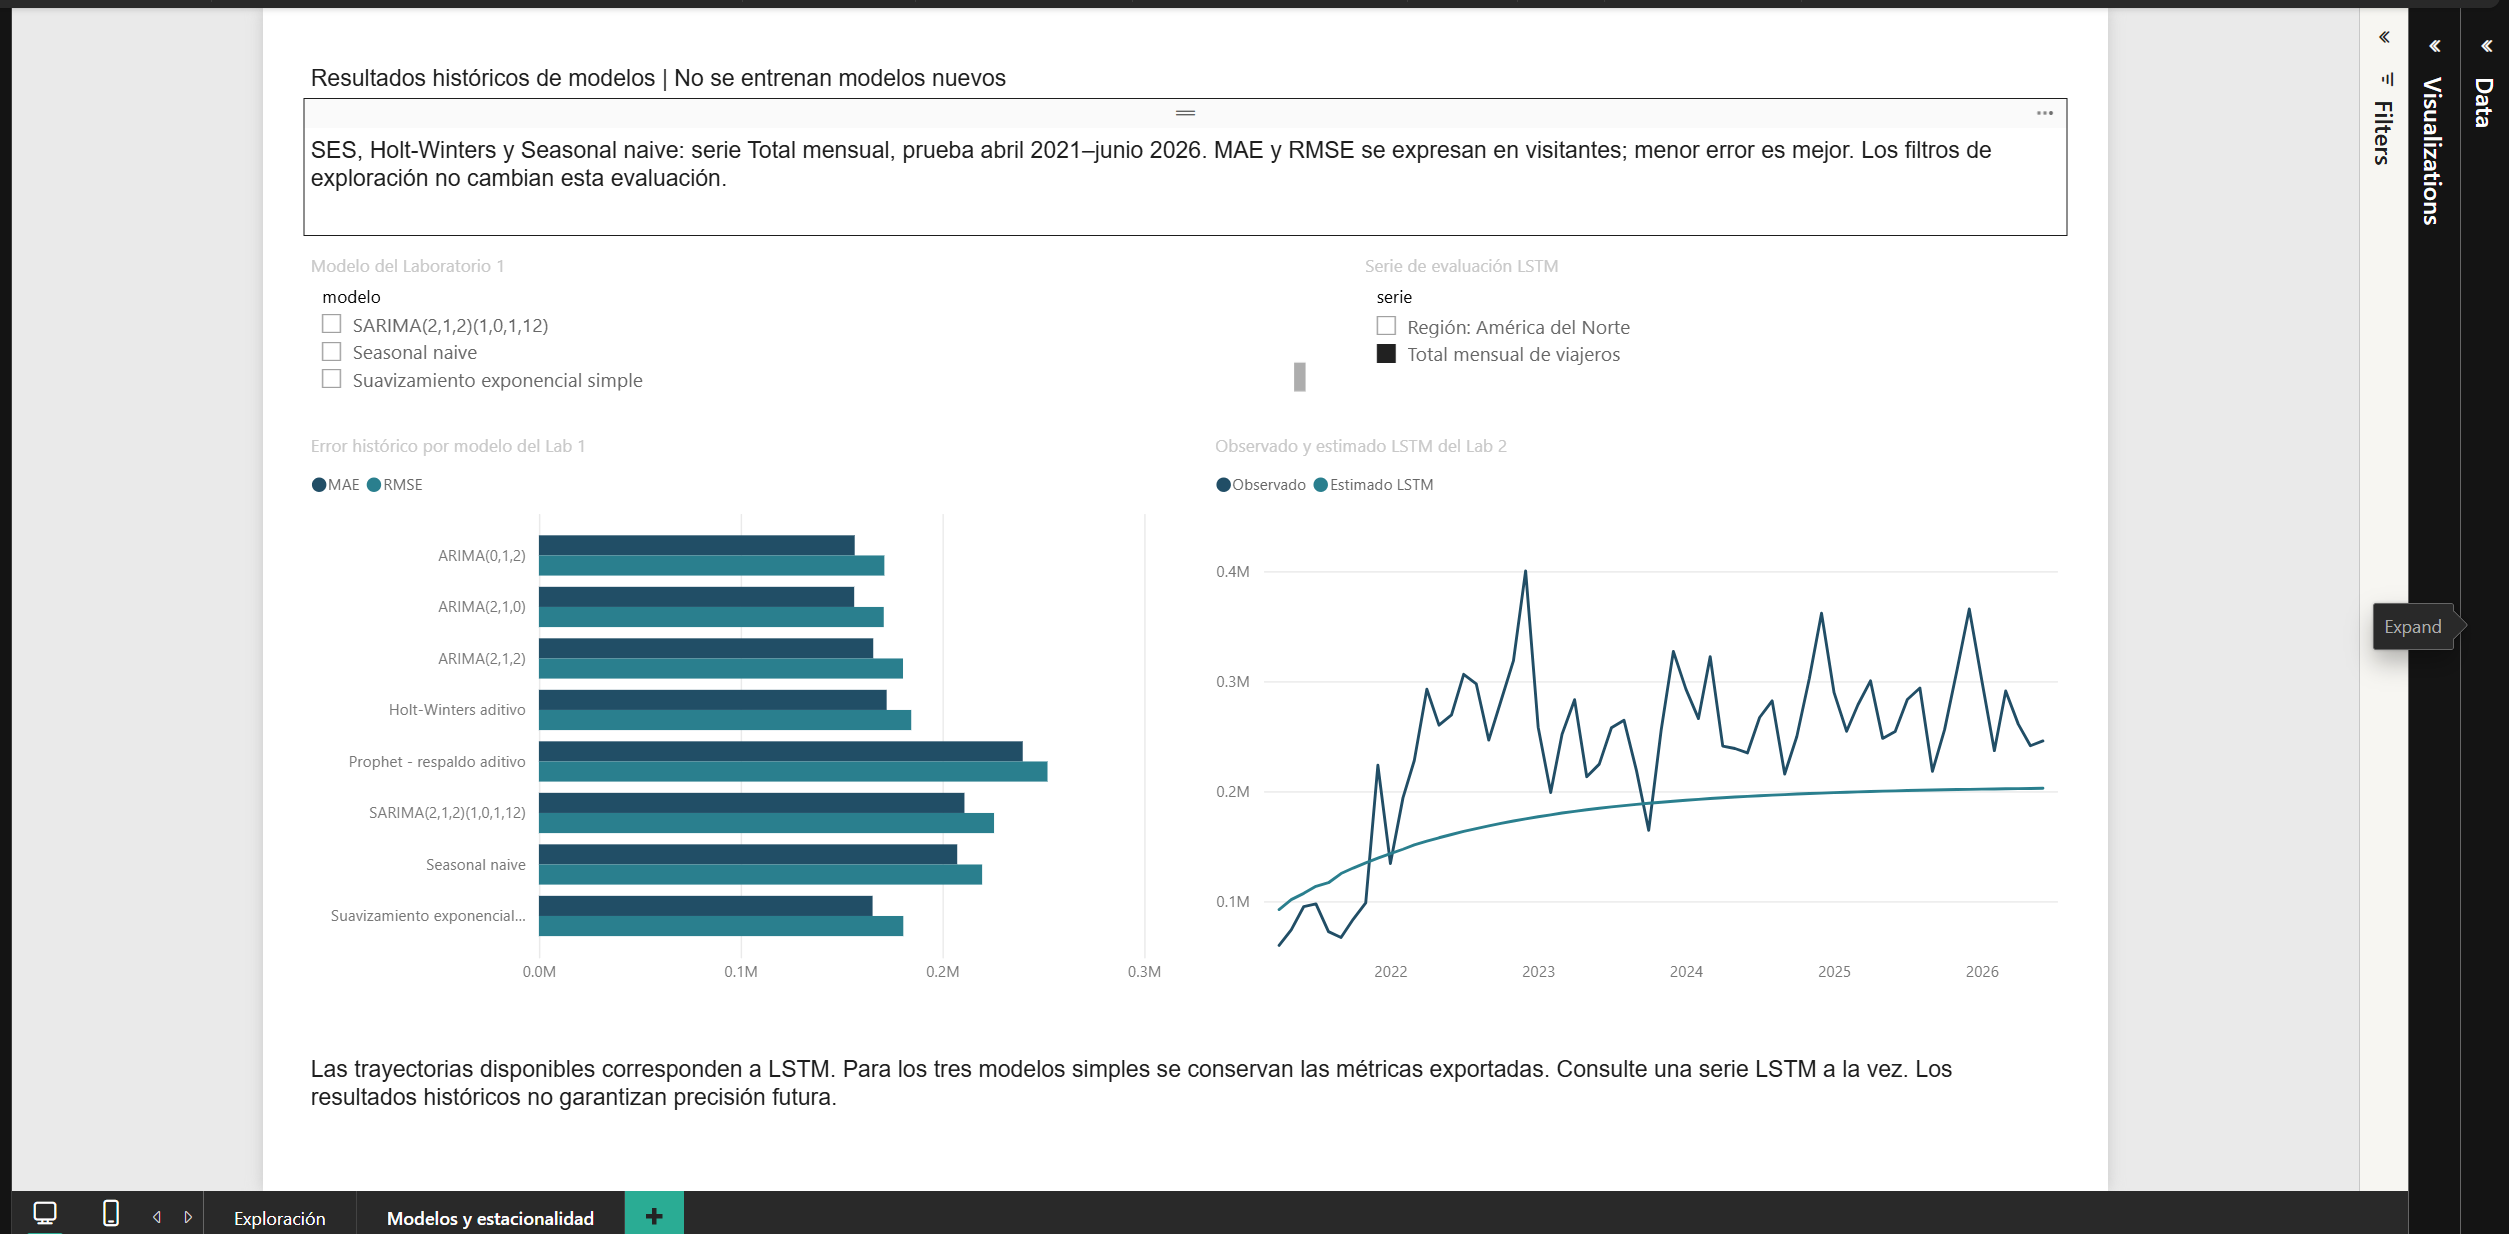

This screenshot's page, from the dashboard's own definition file:
{"tool":"powerbi","page":{"name":"Modelos y estacionalidad","canvas":[1280,800],"ordinal":1},"visuals":[{"type":"textbox","box":[28,12,1224,45],"z":0},{"type":"textbox","box":[28,62,1224,75],"z":0},{"type":"slicer","title":"Modelo del Laboratorio 1","fields":{"Values":["Metricas.modelo"]},"box":[28,150,700,100],"z":0},{"type":"slicer","title":"Serie de evaluación LSTM","fields":{"Values":["Predicciones.serie"]},"box":[760,150,492,100],"z":0},{"type":"clusteredBarChart","title":"Error histórico por modelo del Lab 1","fields":{"Category":["Metricas.modelo"],"Y":["Metricas.MAE","Metricas.RMSE"]},"box":[28,275,600,390],"z":0},{"type":"lineChart","title":"Observado y estimado LSTM del Lab 2","fields":{"Category":["Predicciones.fecha"],"Y":["Predicciones.Observado","Predicciones.Estimado LSTM"]},"box":[656,275,596,390],"z":0},{"type":"textbox","box":[28,700,1224,75],"z":0}]}

Visuals, with their boxes on the page's 1280x800 design canvas (x1, y1, x2, y2). These are canvas units, not pixel positions in the 2509x1234 screenshot, which may show the page scaled, cropped or inside an application window:
textbox: x1=28 y1=12 x2=1252 y2=57
textbox: x1=28 y1=62 x2=1252 y2=137
"Modelo del Laboratorio 1" slicer: x1=28 y1=150 x2=728 y2=250
"Serie de evaluación LSTM" slicer: x1=760 y1=150 x2=1252 y2=250
"Error histórico por modelo del Lab 1" clusteredBarChart: x1=28 y1=275 x2=628 y2=665
"Observado y estimado LSTM del Lab 2" lineChart: x1=656 y1=275 x2=1252 y2=665
textbox: x1=28 y1=700 x2=1252 y2=775
